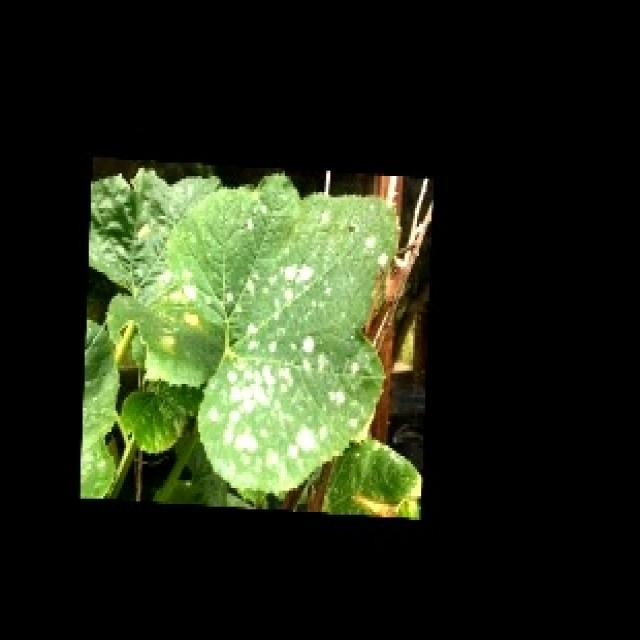Leaf_Mold: (162, 193, 394, 507)
